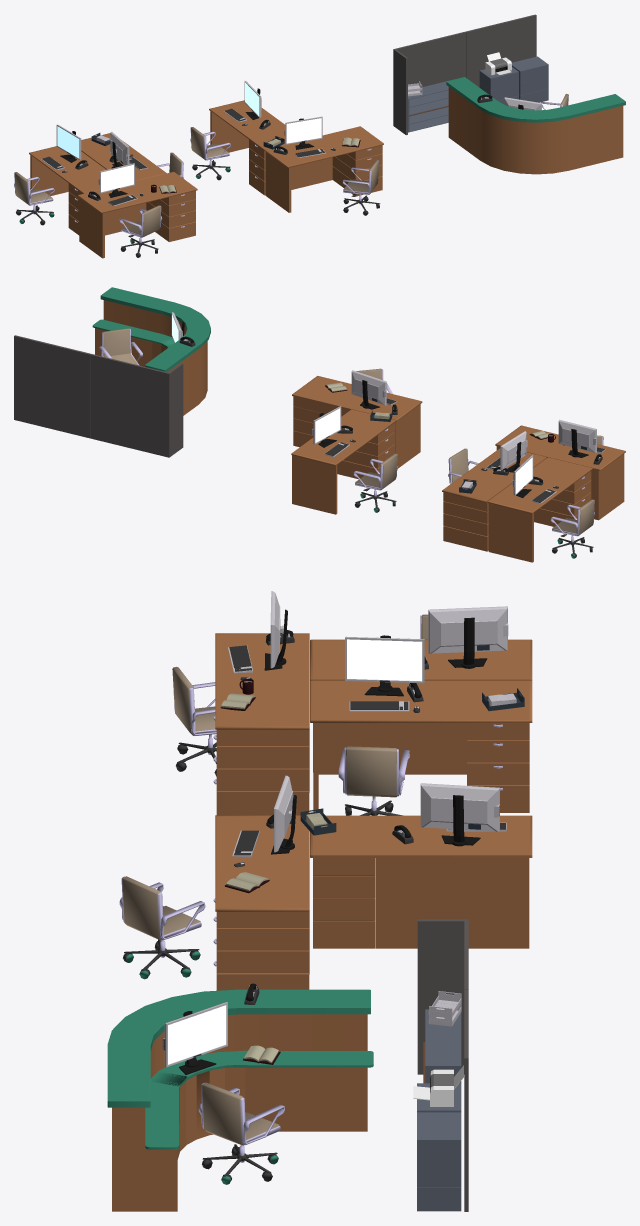
Rendered from office.glb.
The picture shows the model from 3 angles, top to bottom: view 1: azimuth 30°, elevation 25°; view 2: azimuth 150°, elevation 25°; view 3: azimuth 270°, elevation 25°; orthographic projection. The views are drawn at different scales.
Parts seen in each view (by area): view 1: Reception, Desk.002, Desk.003, Small wall, Plane.006, Desk.010, Desk.004, Cube.074, Cube.071, Desk.005, Plane.007, OfficeChair_Modern.004 (+17 smaller); view 2: Reception, Plane.006, Small wall, Desk.004, Desk.010, Desk.003, Desk.002, Cube.080, Desk.005, Cube.022, Cube.077, Plane.007 (+10 smaller); view 3: Reception, Desk.010, Desk.005, Cube.074, Desk.003, Cube.071, Desk.002, Cube.022, Cube.080, Plane.007, Desk.004, OfficeChair_Modern.012 (+15 smaller).
Part boxes in pixels (bbox=[...]): Reception: bbox=[446, 77, 625, 174]; Desk.002: bbox=[264, 126, 383, 212]; Desk.003: bbox=[78, 172, 197, 258]; Small wall: bbox=[466, 14, 536, 87]; Plane.006: bbox=[395, 31, 466, 86]; Desk.010: bbox=[209, 100, 285, 152]; Desk.004: bbox=[29, 146, 106, 196]; Cube.074: bbox=[146, 190, 195, 241]; Cube.071: bbox=[332, 145, 382, 196]; Desk.005: bbox=[81, 133, 166, 180]; Plane.007: bbox=[393, 49, 407, 135]; OfficeChair_Modern.004: bbox=[119, 205, 162, 257]; Reception: bbox=[92, 287, 210, 415]; Plane.006: bbox=[90, 354, 167, 456]; Small wall: bbox=[14, 335, 91, 438]; Desk.004: bbox=[487, 457, 592, 562]; Desk.010: bbox=[291, 409, 396, 514]; Desk.003: bbox=[495, 425, 625, 520]; Desk.002: bbox=[292, 376, 422, 468]; Cube.080: bbox=[443, 492, 488, 551]; Desk.005: bbox=[442, 448, 546, 502]; Cube.022: bbox=[337, 423, 394, 479]; Cube.077: bbox=[534, 471, 591, 526]; Plane.007: bbox=[167, 363, 183, 457]; Reception: bbox=[107, 989, 373, 1211]; Desk.010: bbox=[310, 815, 532, 948]; Desk.005: bbox=[310, 680, 532, 811]; Cube.074: bbox=[216, 729, 309, 815]; Desk.003: bbox=[215, 633, 309, 792]; Cube.071: bbox=[216, 911, 309, 990]; Desk.002: bbox=[215, 815, 309, 974]; Cube.022: bbox=[313, 858, 375, 948]; Cube.080: bbox=[467, 723, 529, 812]; Plane.007: bbox=[417, 919, 468, 1074]; Desk.004: bbox=[310, 639, 532, 680]; OfficeChair_Modern.012: bbox=[198, 1082, 284, 1184].
Bounding box in the file's own units: 8.47 × 1.2 × 2.97.
18 materials, 1 textured.
